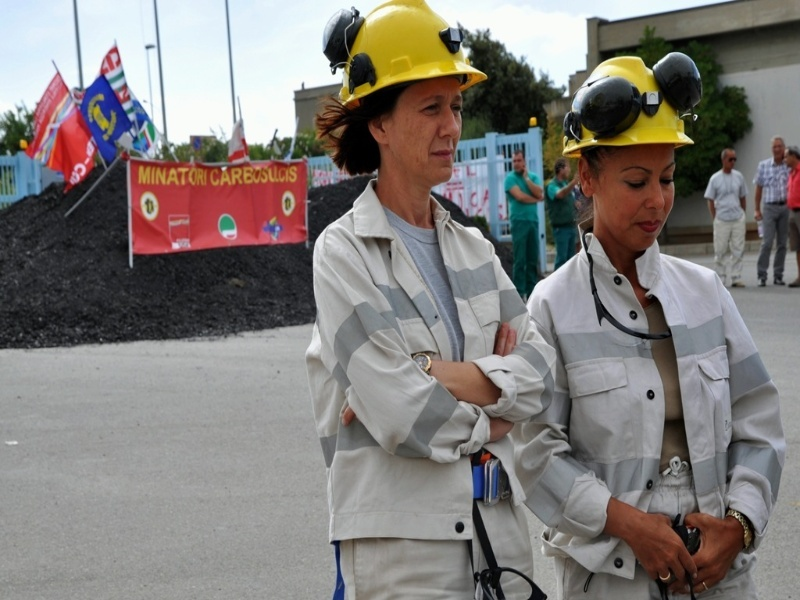baret: (336, 1, 486, 100), (561, 55, 693, 154)
